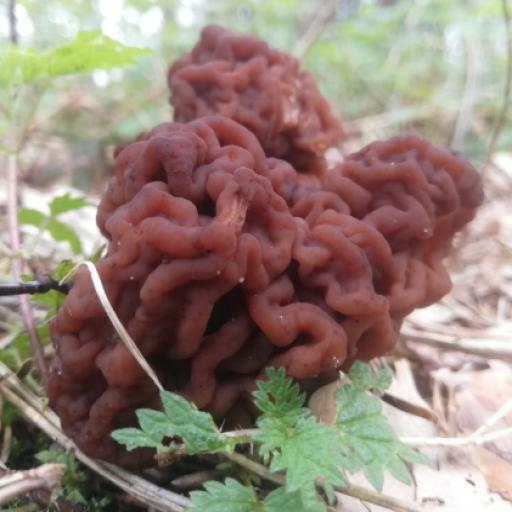mushroom: (45, 22, 474, 432)
